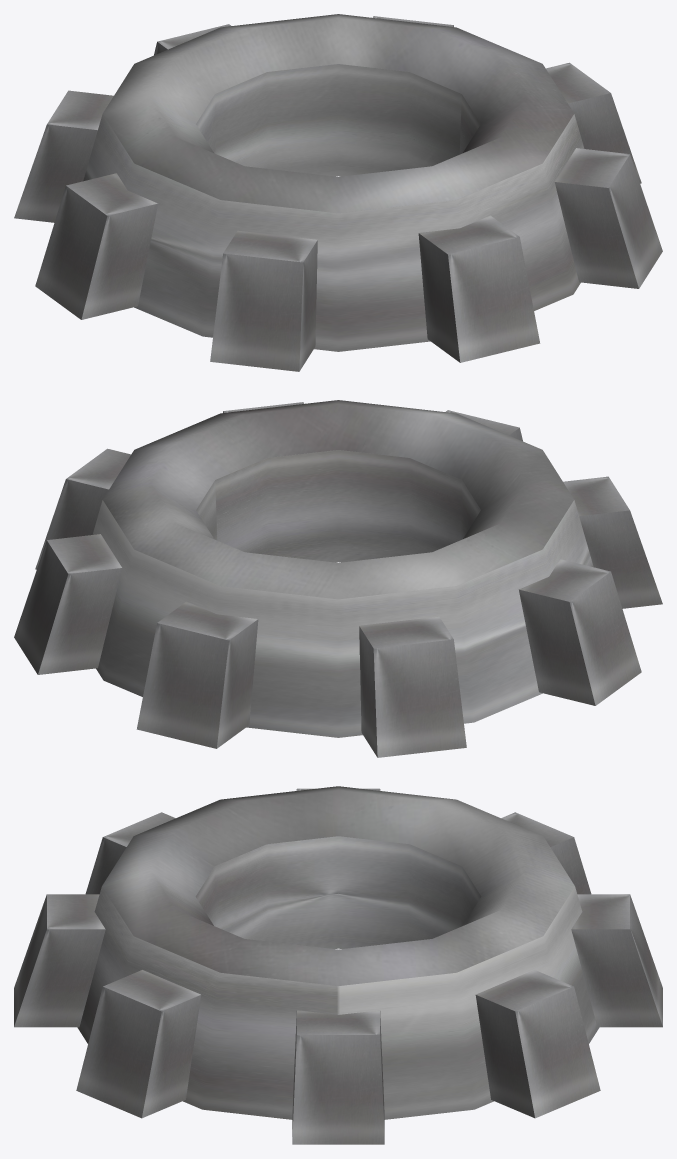
The model's file is static.glb.
3 views of the same model, one above another, from view 1: azimuth 30°, elevation 25°; view 2: azimuth 150°, elevation 25°; view 3: azimuth 270°, elevation 25° (orthographic).
Parts seen in each view (by area): view 1: Tube, Cube_4, Cube_5, Cube_6, Cube_3, Cube_7, Cube_2, Cube_0; view 2: Tube, Cube_0, Cube_7, Cube_6, Cube_1, Cube_5, Cube_2, Cube_4; view 3: Tube, Cube_1, Cube_3, Cube_2, Cube_0, Cube_4, Cube_5, Cube_7.
Part boxes in pixels (x1,y1,x2,y2): Tube: [83, 14, 584, 351]; Cube_4: [418, 215, 540, 362]; Cube_5: [210, 230, 317, 371]; Cube_6: [35, 173, 158, 319]; Cube_3: [554, 148, 662, 288]; Cube_7: [14, 90, 113, 222]; Cube_2: [546, 62, 641, 183]; Cube_0: [154, 24, 230, 55]; Tube: [92, 400, 593, 737]; Cube_0: [136, 601, 258, 748]; Cube_7: [359, 616, 466, 757]; Cube_6: [518, 559, 641, 705]; Cube_1: [14, 534, 122, 674]; Cube_5: [563, 476, 662, 608]; Cube_2: [35, 448, 130, 569]; Cube_4: [446, 410, 522, 441]; Tube: [77, 786, 599, 1119]; Cube_1: [475, 970, 600, 1118]; Cube_3: [76, 970, 201, 1118]; Cube_2: [292, 1010, 384, 1144]; Cube_0: [571, 894, 662, 1027]; Cube_4: [14, 894, 105, 1027]; Cube_5: [85, 812, 175, 894]; Cube_7: [501, 812, 591, 894].
Size of the model in its own units: 0.8133 by 0.1937 by 0.8133.
Materials: 1 (1 with a texture image).
